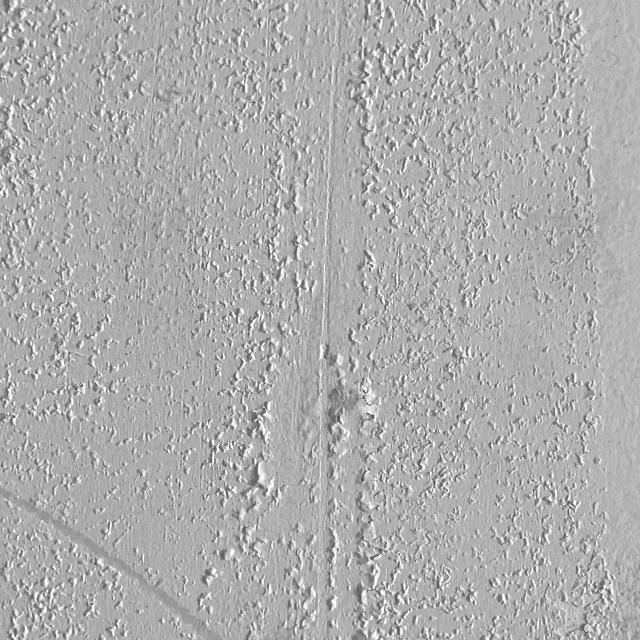rough and patchy surface: (0, 5, 611, 640)
